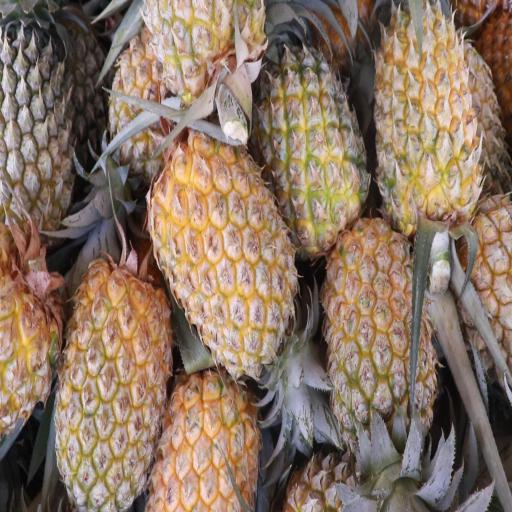------------------------------: (251, 16, 372, 266), (136, 2, 270, 154)
Pineapple - v8 v1: (148, 125, 299, 387), (316, 206, 436, 512), (50, 246, 176, 512), (372, 0, 484, 262), (144, 355, 258, 511), (0, 214, 71, 456), (447, 185, 512, 405)
